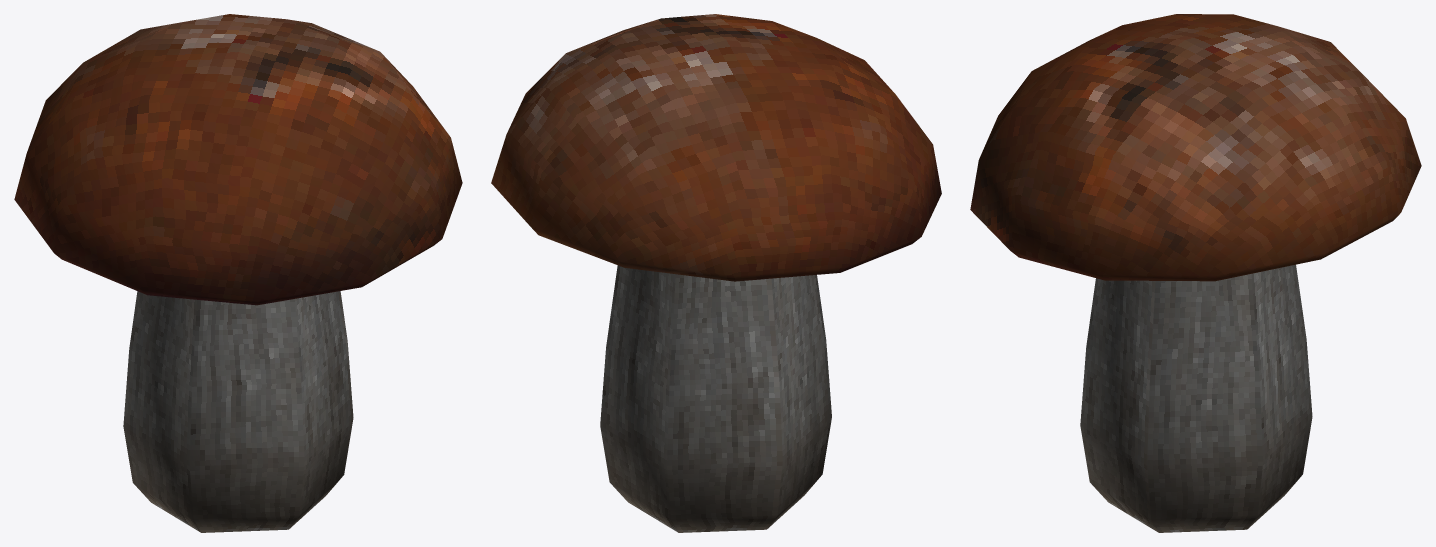
Rendered from mushroom_n_1_1.glb.
3 renders of one model, left to right at view 1: azimuth 30°, elevation 25°; view 2: azimuth 150°, elevation 25°; view 3: azimuth 270°, elevation 25°, orthographic.
Parts seen in each view (by area): view 1: mushroom_n_1_1; view 2: mushroom_n_1_1; view 3: mushroom_n_1_1.
Part boxes in pixels (<box>): mushroom_n_1_1: <box>14,14,462,532</box>; mushroom_n_1_1: <box>491,14,941,532</box>; mushroom_n_1_1: <box>970,14,1421,532</box>.
Bounding box in the file's own units: 0.1971 × 0.2197 × 0.1968.
1 material, 1 textured.
